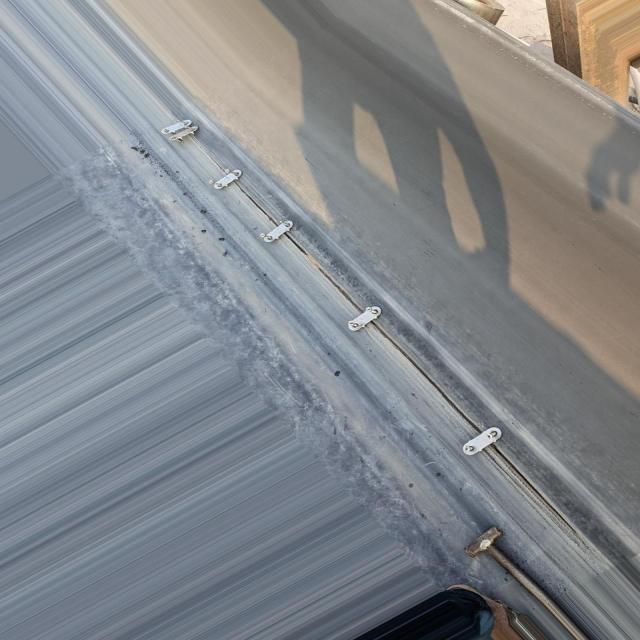Other Objects: (321, 568, 567, 640), (457, 527, 593, 640)
patch work: (145, 94, 637, 568)
